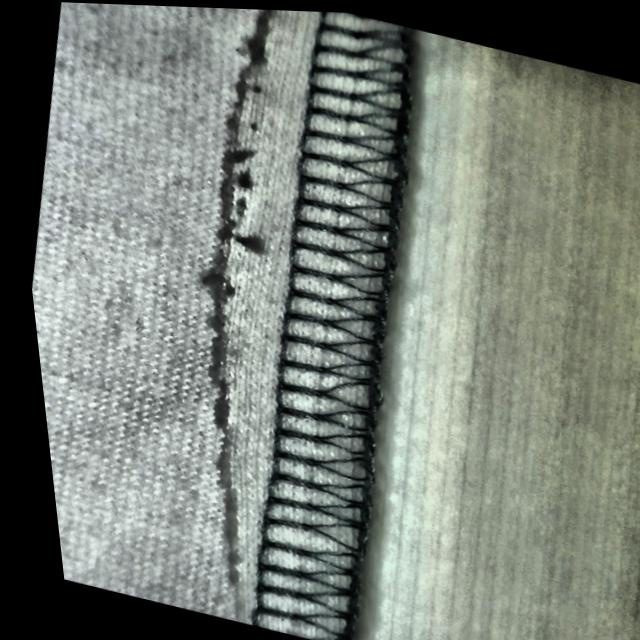seam: (66, 0, 499, 632)
